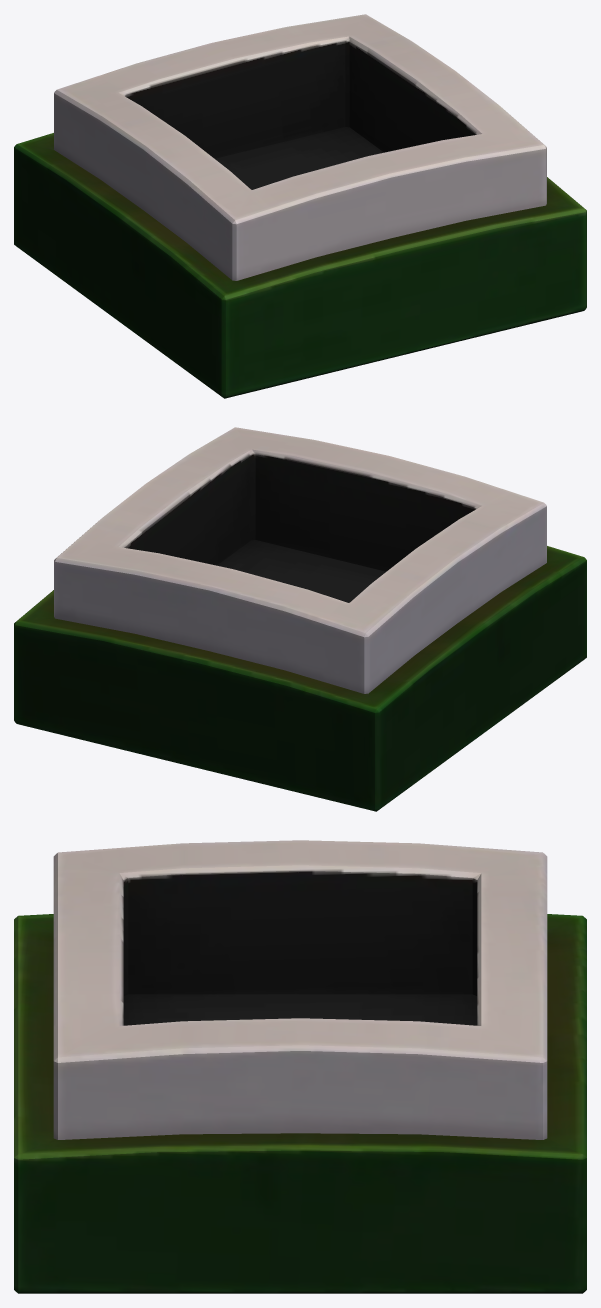
File: trash.glb
The picture shows the model from 3 angles, top to bottom: view 1: azimuth 30°, elevation 25°; view 2: azimuth 150°, elevation 25°; view 3: azimuth 270°, elevation 25°; orthographic projection. The views are drawn at different scales.
Visible parts, largest first — view 1: 2; view 2: 2; view 3: 2.
Part boxes in pixels (x1,y1,x2,y2): 2: (14, 14, 586, 398); 2: (14, 427, 586, 811); 2: (14, 840, 586, 1293).
Bounding box in the file's own units: 2 × 0.8959 × 2.
Materials: 1 (1 with a texture image).
